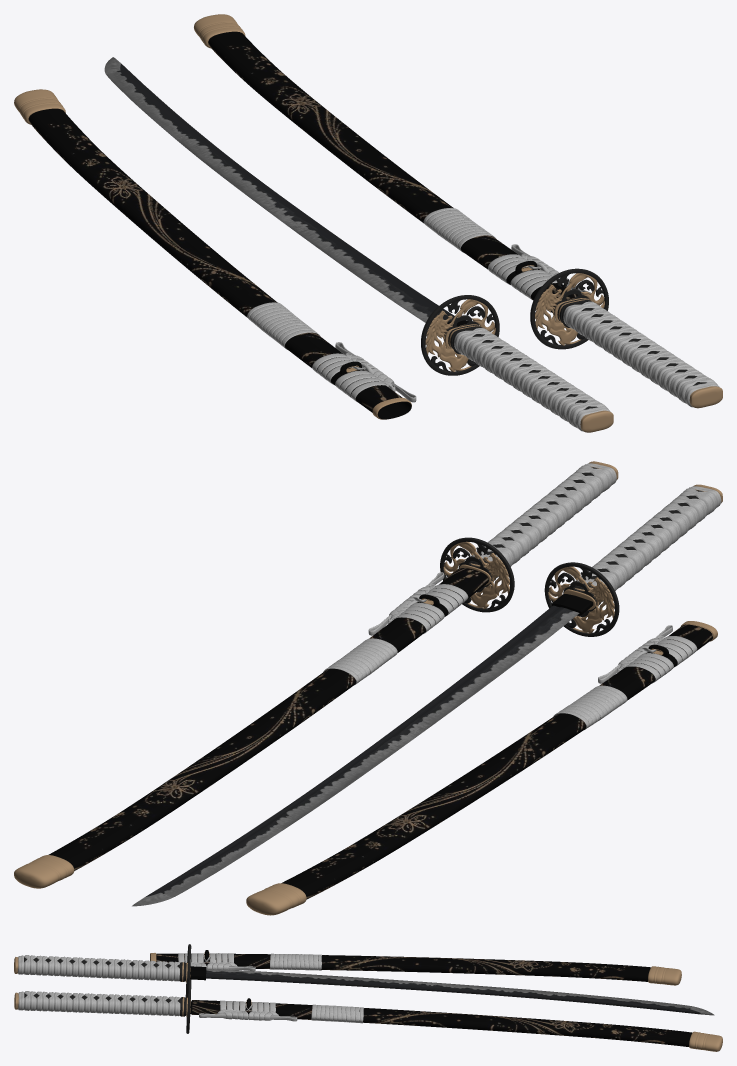
Rendered from katana.glb.
3 renders of one model, top to bottom at view 1: azimuth 30°, elevation 25°; view 2: azimuth 150°, elevation 25°; view 3: azimuth 270°, elevation 25°, orthographic. The views are drawn at different scales.
Visible parts, largest first — view 1: Cube.002, Cube.006, Cube, Circle.008, Circle.004, defaultMaterial.003_Material.007_0, defaultMaterial.004_Material.007_0, Plane.006, Plane.004, defaultMaterial.005_Material.007_0, defaultMaterial.008_Material.007_0, Plane (+3 smaller); view 2: Cube.006, Cube.002, Cube, Circle.004, Circle.008, defaultMaterial.004_Material.007_0, defaultMaterial.003_Material.007_0, defaultMaterial.008_Material.007_0, Plane.006, defaultMaterial.005_Material.007_0, Plane.004, Cube.007 (+3 smaller); view 3: Cube.006, Cube.002, Cube, Circle.004, Circle.008, defaultMaterial.004_Material.007_0, defaultMaterial.008_Material.007_0, defaultMaterial.003_Material.007_0, defaultMaterial.005_Material.007_0, Cube.003, Cube.007, Circle (+3 smaller).
Boxes of the visible parts, <box> form: Cube.002: <box>28,108,411,419</box>; Cube.006: <box>208,31,576,312</box>; Cube: <box>104,57,456,322</box>; Circle.008: <box>563,301,719,407</box>; Circle.004: <box>454,328,610,431</box>; defaultMaterial.003_Material.007_0: <box>312,342,416,402</box>; defaultMaterial.004_Material.007_0: <box>488,244,591,299</box>; Plane.006: <box>425,299,495,371</box>; Plane.004: <box>535,273,604,345</box>; defaultMaterial.005_Material.007_0: <box>247,302,319,349</box>; defaultMaterial.008_Material.007_0: <box>423,208,496,252</box>; Plane: <box>421,295,499,375</box>; Cube.006: <box>48,568,488,870</box>; Cube.002: <box>281,624,712,899</box>; Cube: <box>132,605,579,906</box>; Circle.004: <box>575,486,721,602</box>; Circle.008: <box>470,463,616,577</box>; defaultMaterial.004_Material.007_0: <box>368,572,468,635</box>; defaultMaterial.003_Material.007_0: <box>598,625,697,683</box>; defaultMaterial.008_Material.007_0: <box>323,638,397,684</box>; Plane.006: <box>548,566,614,633</box>; defaultMaterial.005_Material.007_0: <box>553,685,627,729</box>; Plane.004: <box>443,541,509,608</box>; Cube.007: <box>14,855,74,888</box>; Cube.006: <box>191,1000,691,1046</box>; Cube.002: <box>150,953,650,981</box>; Cube: <box>206,968,714,1015</box>; Circle.004: <box>18,955,179,981</box>; Circle.008: <box>18,991,180,1016</box>; defaultMaterial.004_Material.007_0: <box>199,1000,297,1021</box>; defaultMaterial.008_Material.007_0: <box>311,1004,363,1023</box>; defaultMaterial.003_Material.007_0: <box>178,953,255,970</box>; defaultMaterial.005_Material.007_0: <box>270,953,321,970</box>; Cube.003: <box>648,966,681,985</box>; Cube.007: <box>689,1031,722,1051</box>; Circle: <box>24,957,186,980</box>.
Bounding box in the file's own units: 1.84 × 0.4607 × 5.91.
Materials: 7 (4 with a texture image).
